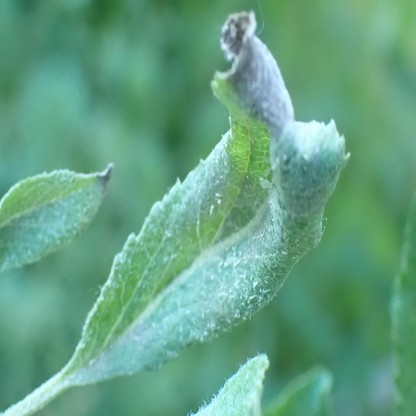powdery_mildew: (64, 11, 351, 383), (0, 165, 114, 269), (196, 354, 269, 416)
